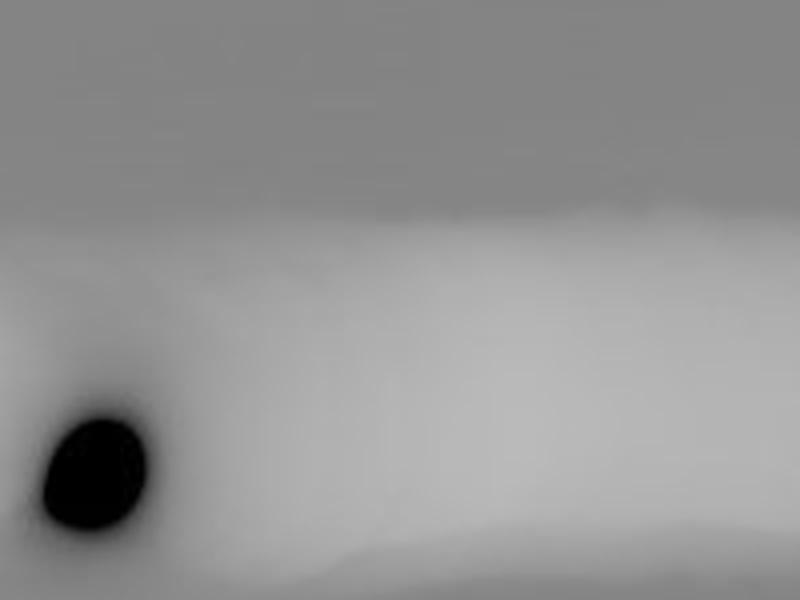defect: (44, 416, 150, 531)
